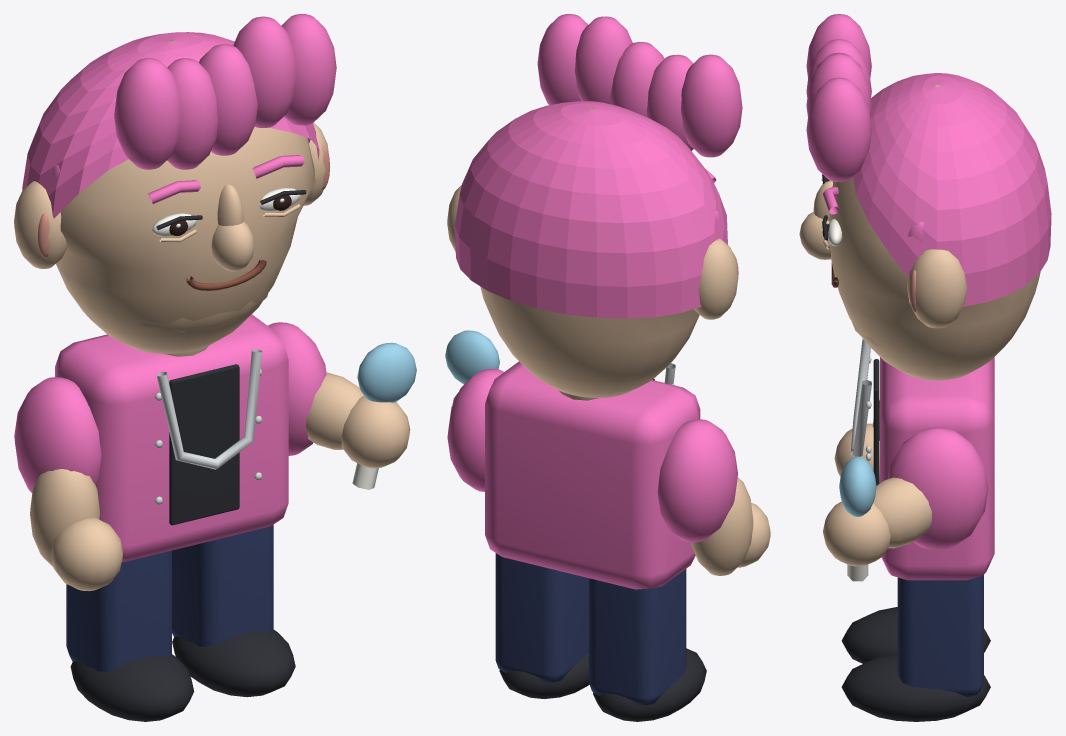
Rendered from longlong-04.glb.
The picture shows the model from 3 angles, left to right: view 1: azimuth 30°, elevation 25°; view 2: azimuth 150°, elevation 25°; view 3: azimuth 270°, elevation 25°; orthographic projection. The views are drawn at different scales.
Visible parts, largest first — view 1: Trousers, Side-swept hair; view 2: Trousers, Side-swept hair; view 3: Trousers, Side-swept hair.
Boxes of the visible parts, x1,y1,x2,y2 form: Trousers: [14, 14, 416, 721]; Side-swept hair: [22, 32, 319, 218]; Trousers: [445, 14, 770, 721]; Side-swept hair: [454, 101, 727, 318]; Trousers: [799, 14, 1040, 721]; Side-swept hair: [853, 73, 1051, 306].
Bounding box in the file's own units: 1.59 × 3 × 1.05.
2 materials, 2 textured.
